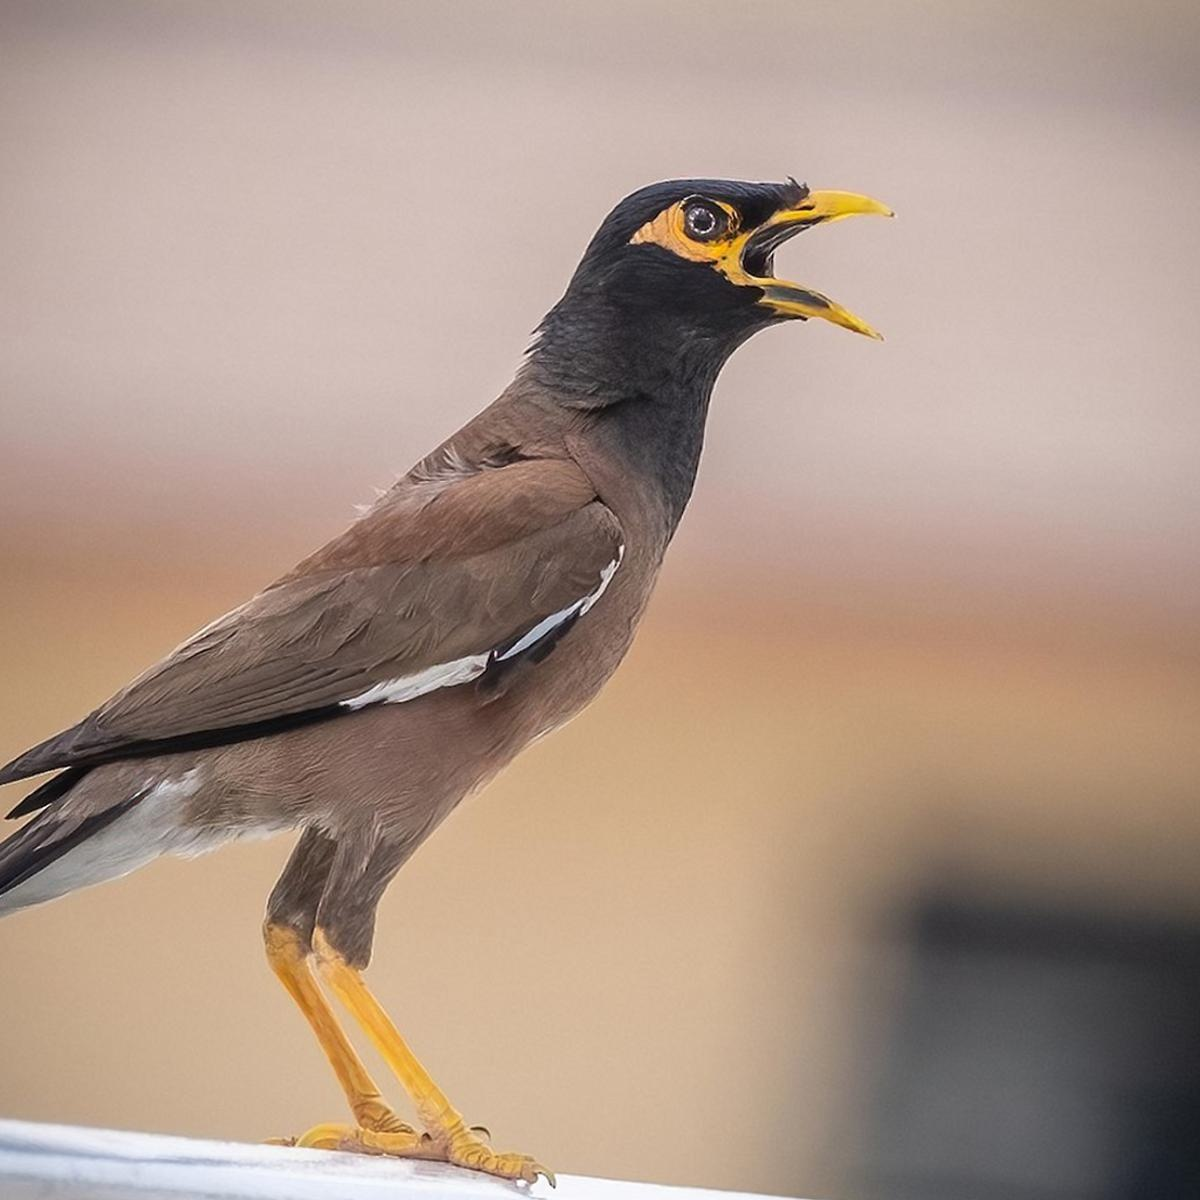myna: (1, 131, 946, 1200)
